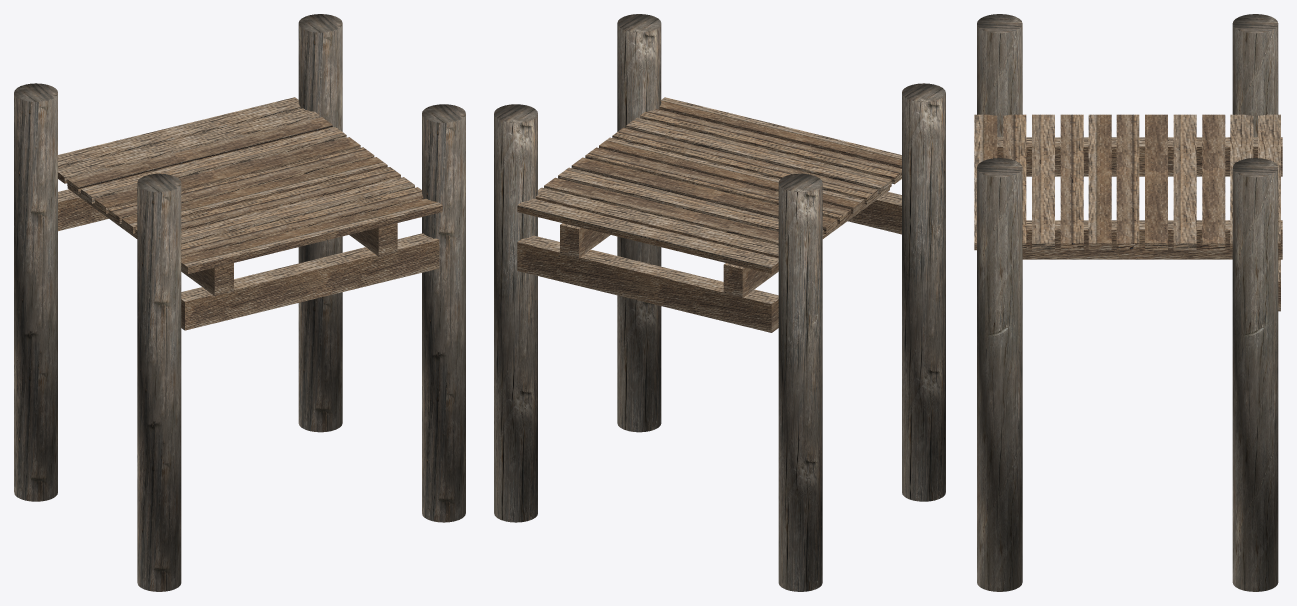
The model's file is Muelle.fbx.
The picture shows the model from 3 angles, left to right: view 1: azimuth 30°, elevation 25°; view 2: azimuth 150°, elevation 25°; view 3: azimuth 270°, elevation 25°; orthographic projection. The views are drawn at different scales.
Parts seen in each view (by area): view 1: Muelle; view 2: Muelle; view 3: Muelle.
Boxes of the visible parts, x1=… form: Muelle: x1=14, y1=14, x2=465, y2=591; Muelle: x1=494, y1=14, x2=945, y2=591; Muelle: x1=974, y1=14, x2=1282, y2=591.
Size of the model in its own units: 507 by 600 by 404.
Materials: 19 (19 with a texture image).
